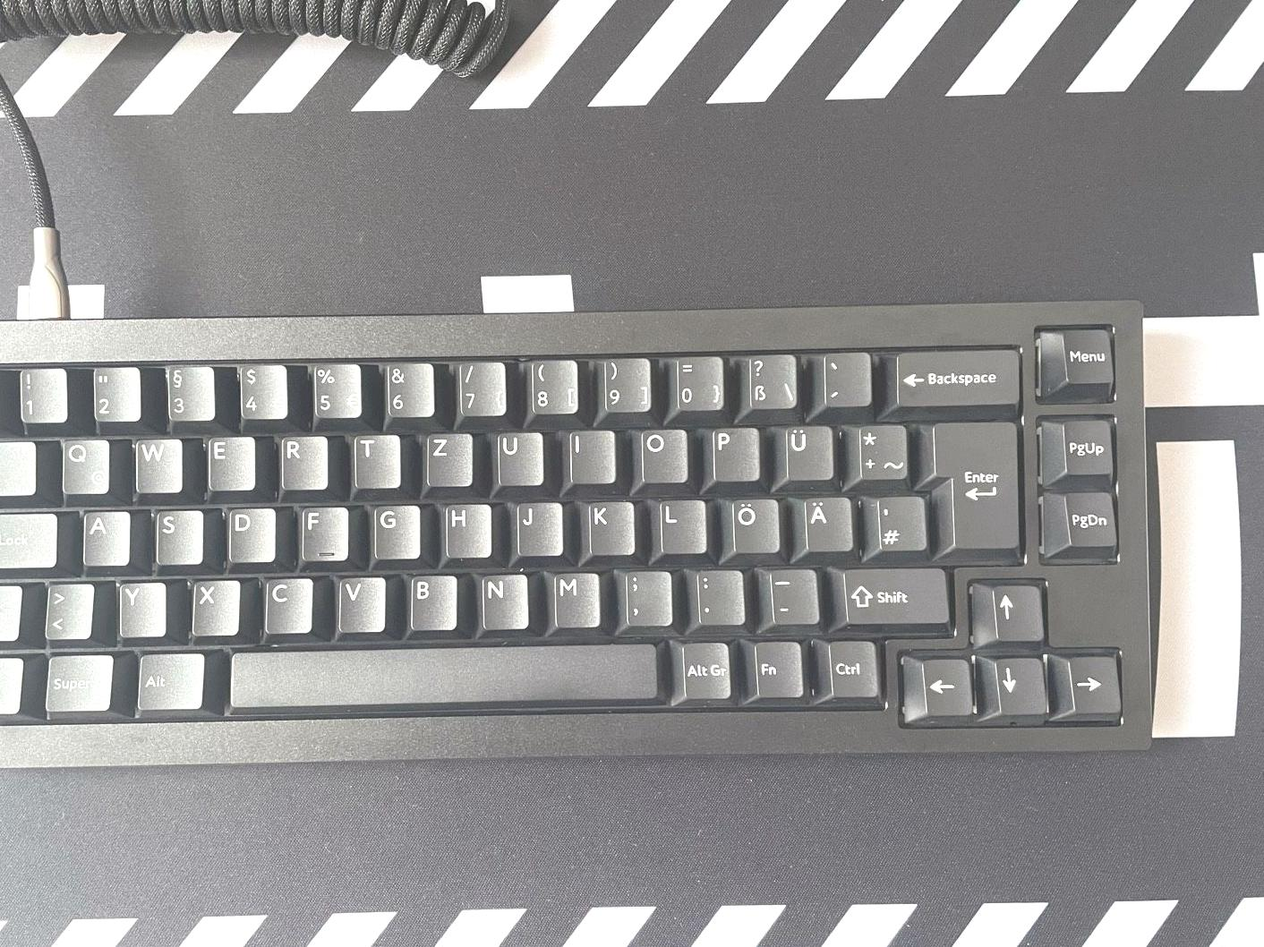0: (669, 352, 724, 413)
1: (16, 364, 68, 423)
2: (88, 363, 141, 421)
3: (161, 362, 216, 422)
4: (235, 360, 288, 421)
5: (307, 358, 362, 420)
6: (378, 357, 434, 418)
7: (454, 358, 508, 417)
8: (523, 355, 579, 417)
9: (598, 354, 653, 415)
a: (78, 505, 130, 565)
accent: (816, 348, 871, 406)
ae: (798, 492, 853, 552)
alt-left: (132, 647, 204, 709)
altgr-right: (672, 637, 731, 699)
b: (404, 570, 457, 629)
c: (260, 572, 312, 633)
comma: (617, 565, 671, 626)
d: (224, 503, 276, 562)
del: (890, 346, 1023, 409)
e: (204, 432, 255, 490)
enter: (929, 413, 1020, 552)
f: (296, 502, 348, 561)
g: (368, 500, 420, 558)
h: (440, 499, 491, 558)
hash: (867, 491, 926, 552)
i: (566, 426, 616, 483)
j: (511, 498, 562, 556)
k: (584, 497, 636, 554)
keyboard: (1, 300, 1162, 772)
l: (654, 495, 706, 553)
less: (40, 577, 93, 639)
m: (547, 567, 600, 627)
minus: (761, 563, 819, 624)
n: (477, 569, 528, 629)
o: (634, 424, 688, 482)
oe: (725, 494, 780, 553)
p: (706, 422, 760, 482)
plus: (853, 420, 908, 480)
point: (689, 565, 744, 625)
q: (57, 434, 110, 494)
r: (277, 431, 329, 490)
s: (150, 505, 203, 565)
shift-left: (1, 579, 37, 641)
shift-lock: (1, 508, 57, 568)
shift-right: (837, 562, 949, 625)
space: (224, 639, 661, 707)
ss: (739, 350, 798, 411)
strg-left: (1, 652, 37, 714)
strg-right: (823, 636, 880, 697)
t: (349, 430, 401, 488)
tab: (1, 437, 44, 495)
u: (491, 427, 543, 485)
ue: (778, 421, 833, 482)
v: (334, 571, 386, 631)
w: (131, 433, 183, 492)
x: (188, 575, 240, 635)
y: (115, 576, 167, 637)
z: (422, 429, 473, 487)
